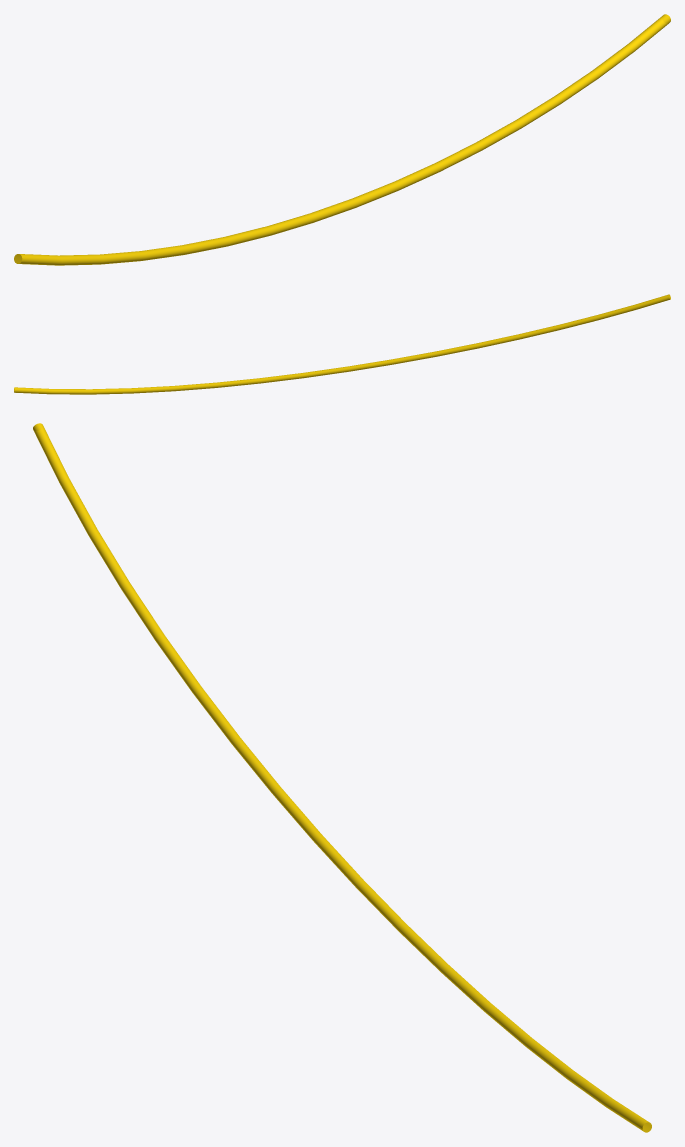
File: Event_421115418_track_7.fbx
3 renders of one model, top to bottom at view 1: azimuth 30°, elevation 25°; view 2: azimuth 150°, elevation 25°; view 3: azimuth 270°, elevation 25°, orthographic. The views are drawn at different scales.
Visible parts, largest first — view 1: Model; view 2: Model; view 3: Model.
Part boxes in pixels (x1,y1,x2,y2): Model: (14, 14, 670, 265); Model: (14, 294, 670, 394); Model: (33, 423, 651, 1132).
Bounding box in the file's own units: 4.27 × 0.8953 × 2.26.
